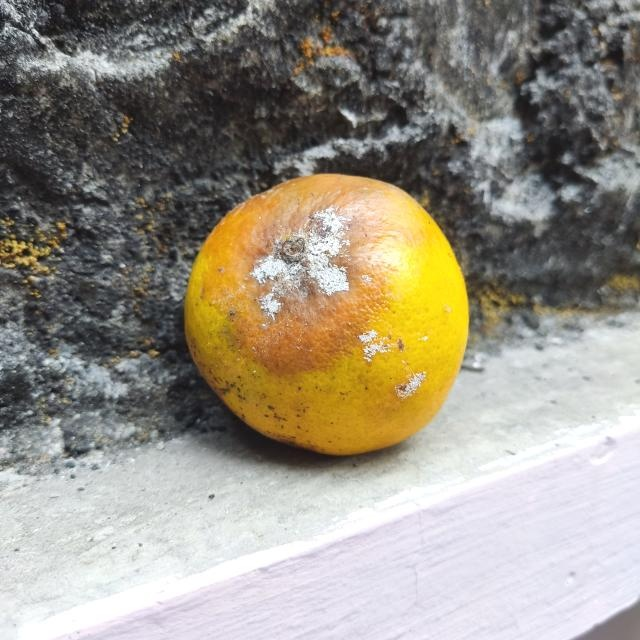agrume: (185, 171, 472, 457)
